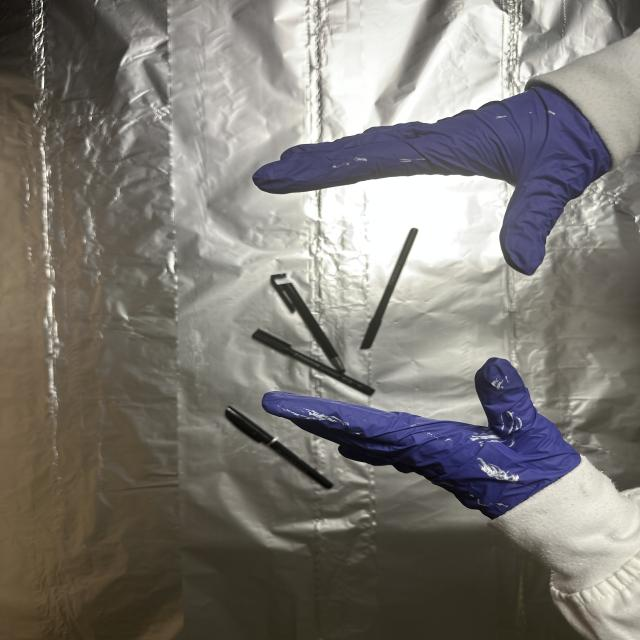gloves_contaminated: (254, 88, 611, 274), (264, 358, 580, 517)
